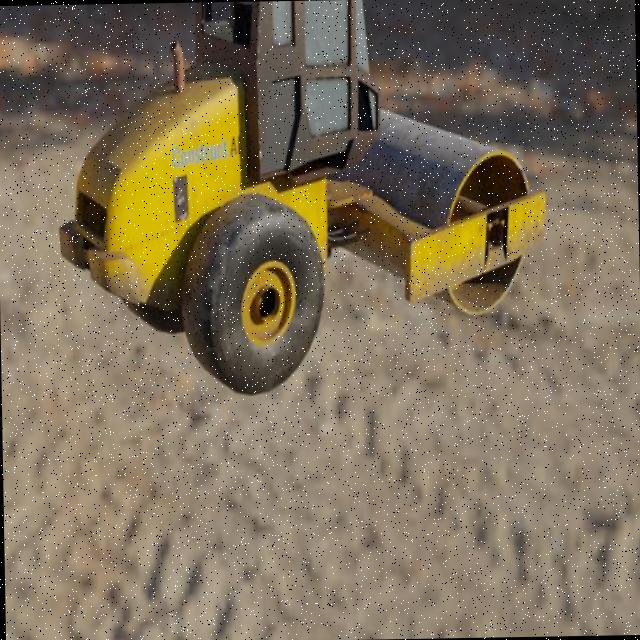Roller: (53, 0, 549, 399)
